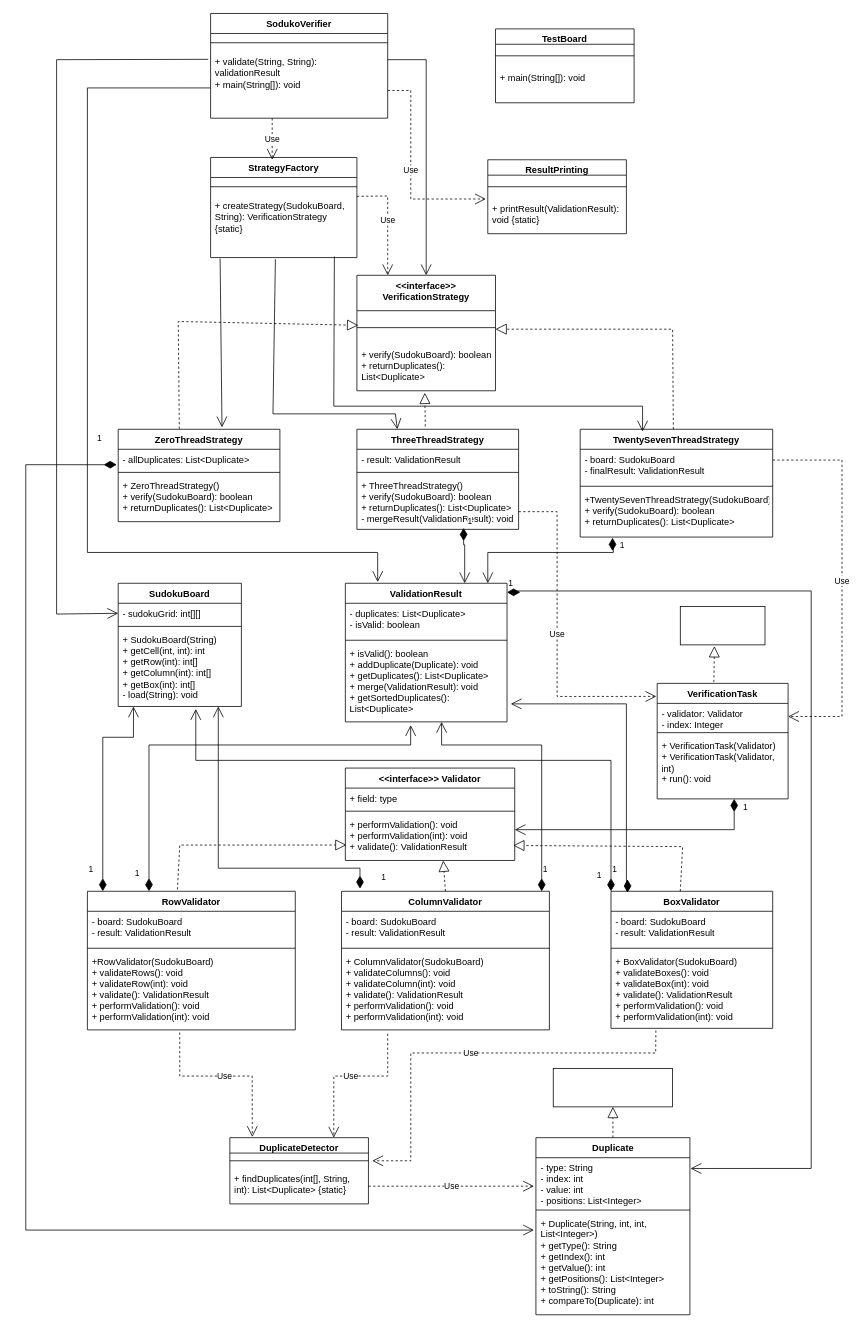
The diagram is 866 pixels wide and 1331 high, and some of its shapes have lost their labels. The centre of each missing label's shape, as x and y in pixels:
«interface» Comparable<Duplicate>: point 612,1087
«interface» Runnable: point 722,625
